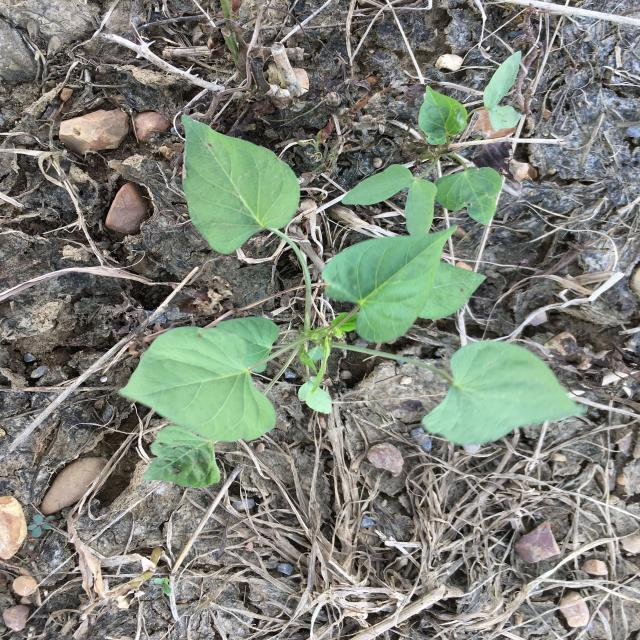MorningGlory: (118, 114, 587, 488), (342, 51, 522, 236)
